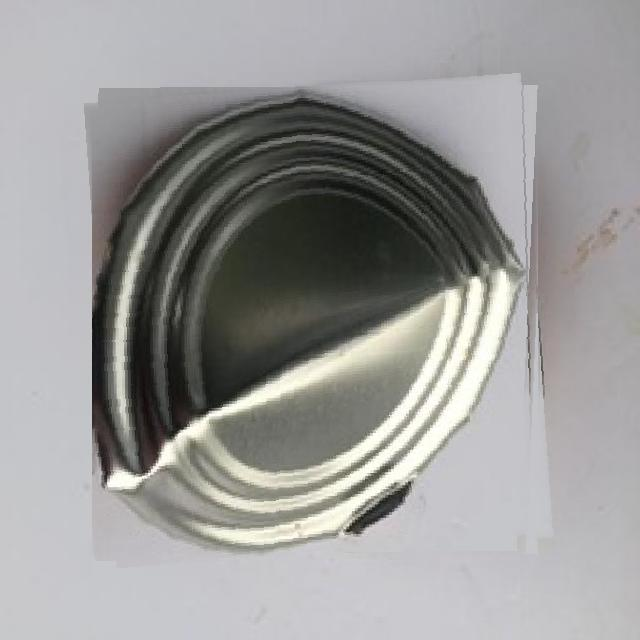recyclable: (92, 81, 547, 561)
